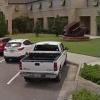Car: (1, 29, 30, 69)
